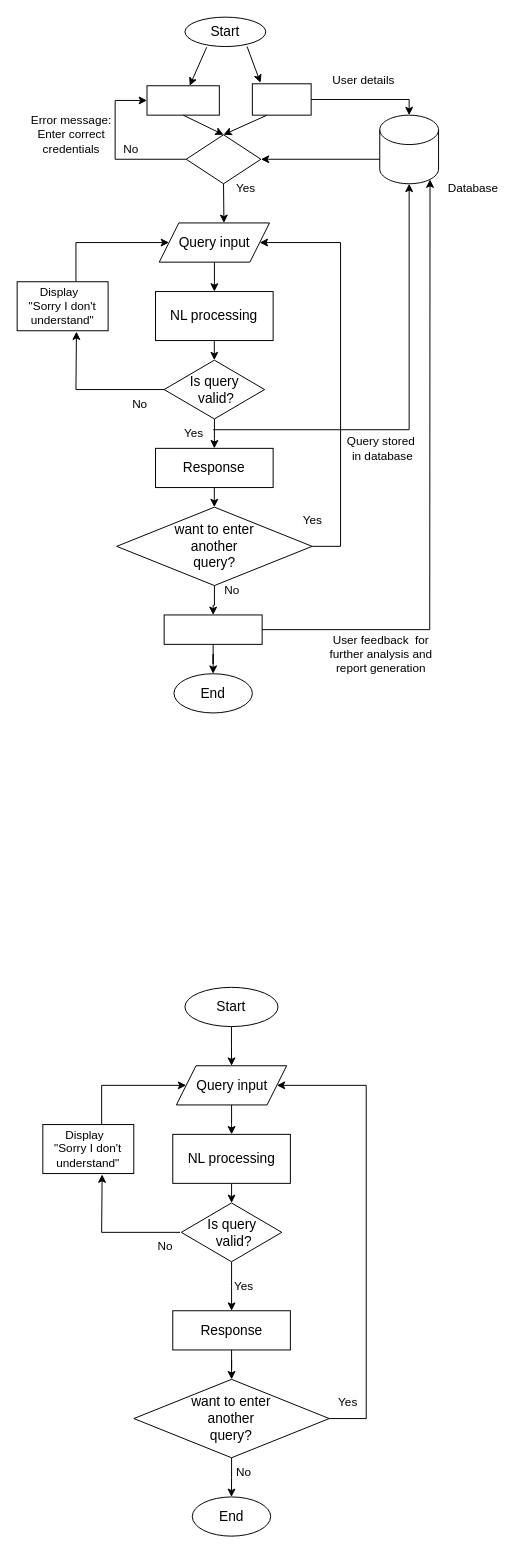
The diagram is 524 pixels wide and 1553 high, and some of its shapes have lost their labels. The centre of each missing label's shape, as x and y in pixels:
If user valid?: the point at 223,159
Sign up: the point at 281,99
User Feedback: the point at 212,629
User login: the point at 182,100
